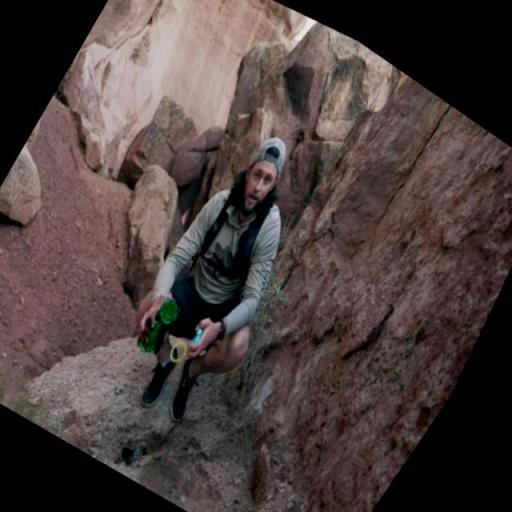bottle: (140, 293, 190, 356)
